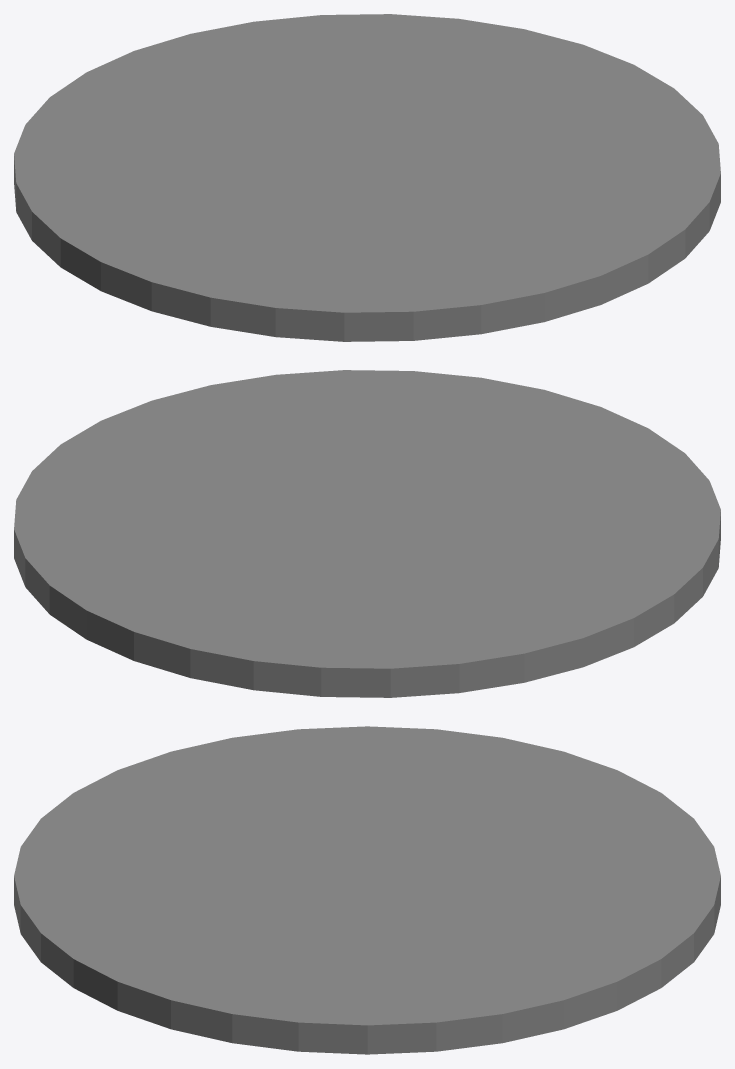
Rendered from G 12 - Black.glb.
3 views of the same model, one above another, from view 1: azimuth 30°, elevation 25°; view 2: azimuth 150°, elevation 25°; view 3: azimuth 270°, elevation 25° (orthographic).
Visible parts, largest first — view 1: G-12-Elevator.Platform.Simple; view 2: G-12-Elevator.Platform.Simple; view 3: G-12-Elevator.Platform.Simple.
Part boxes in pixels (left/top/right/bottom): G-12-Elevator.Platform.Simple: left=14, top=14, right=720, bottom=341; G-12-Elevator.Platform.Simple: left=14, top=370, right=720, bottom=697; G-12-Elevator.Platform.Simple: left=14, top=726, right=720, bottom=1054.
Size of what is drawn, in the model's own units: 4.4 by 0.2 by 4.4.
1 material, 1 textured.
